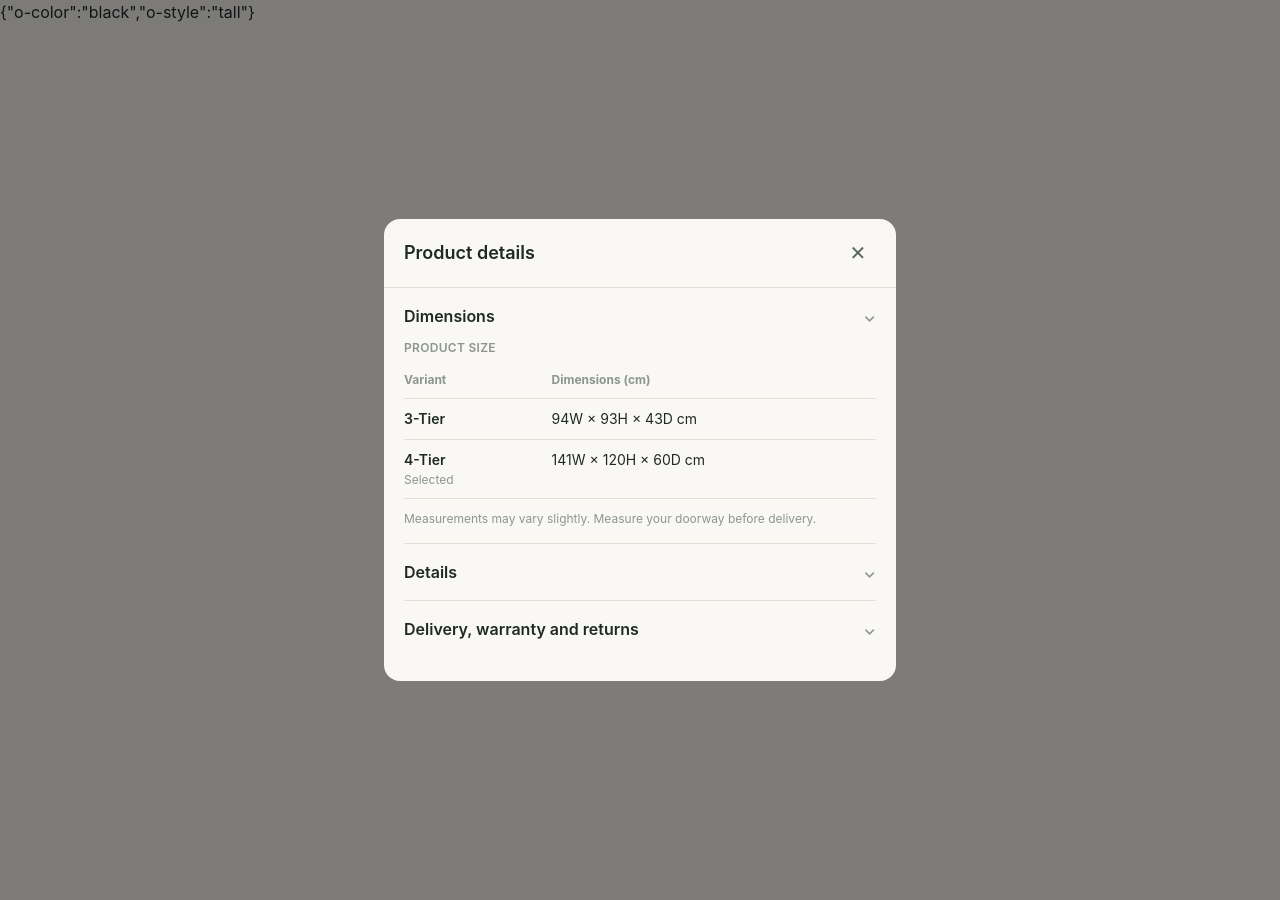
Test: ProductDetailsModal › keeps sparse available colors scoped to their real style
The width and height of the screenshot is (1280, 900).
Click the heading "Details ⌄".
click(431, 572)  # box [404, 560, 876, 584]
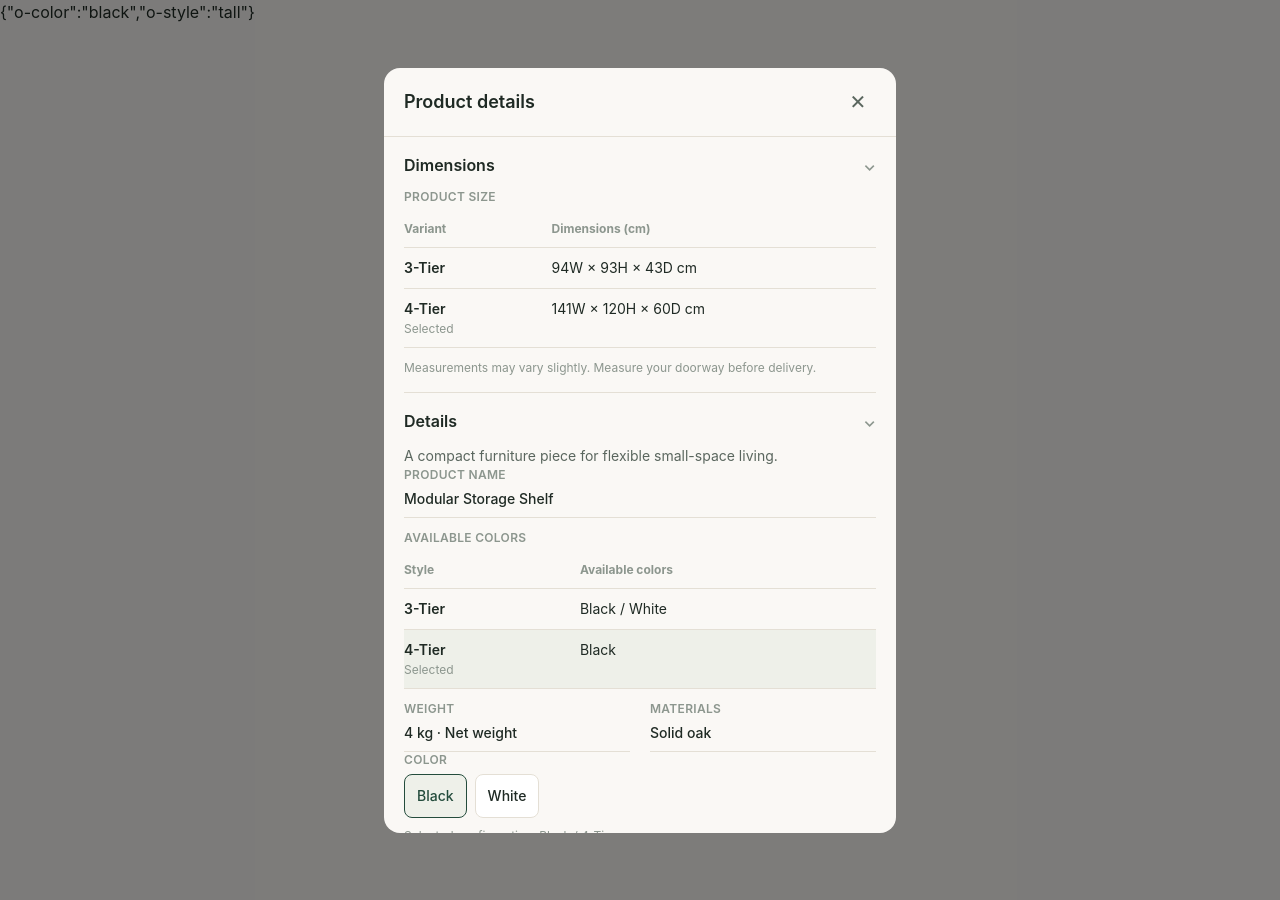
Check: the element named "Color" is shown, box [404, 774, 539, 818]
